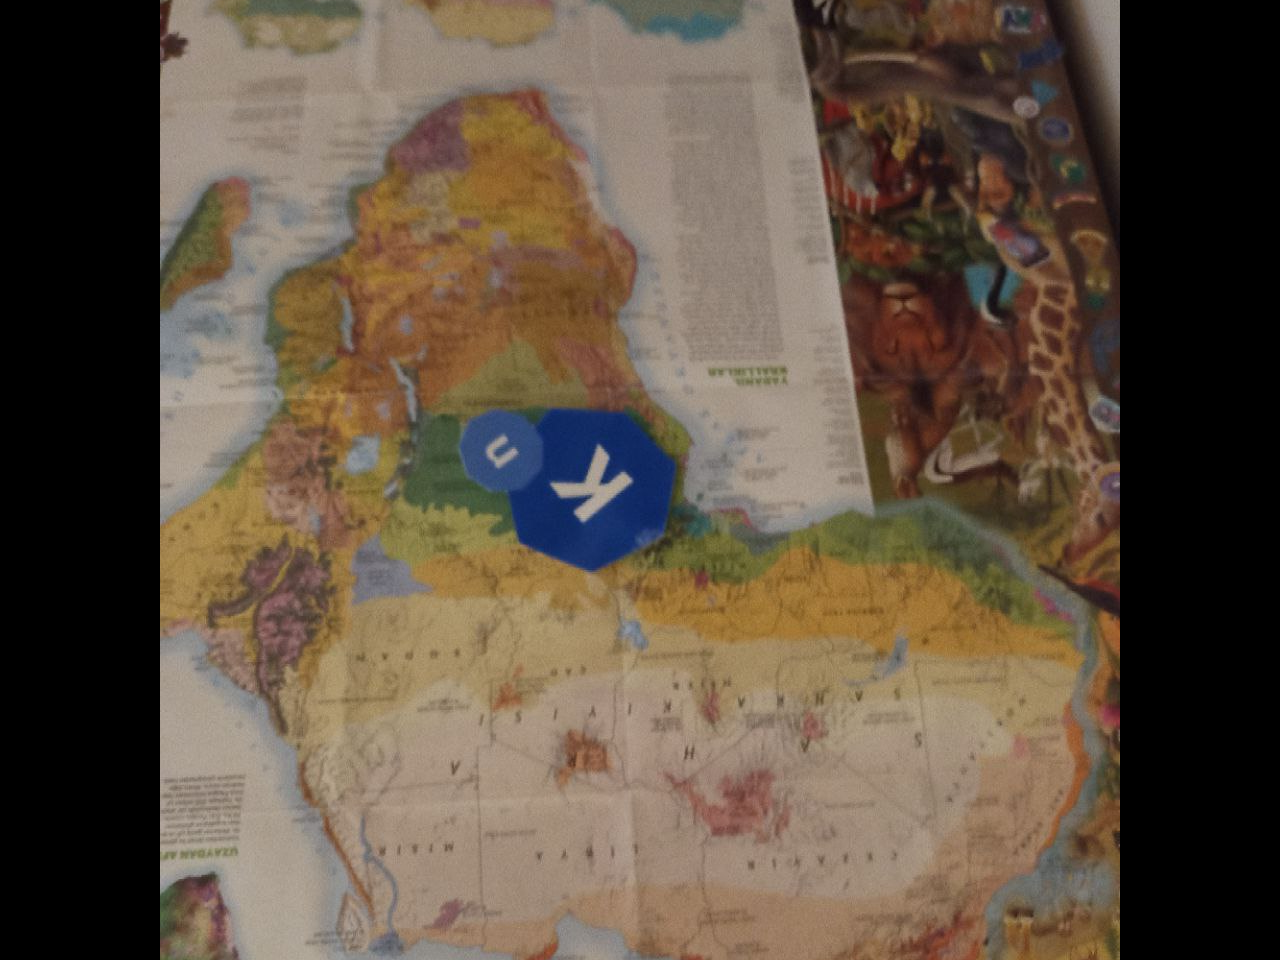knative: (456, 405, 671, 573)
